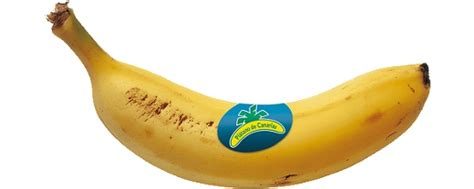banana: (61, 44, 433, 189)
